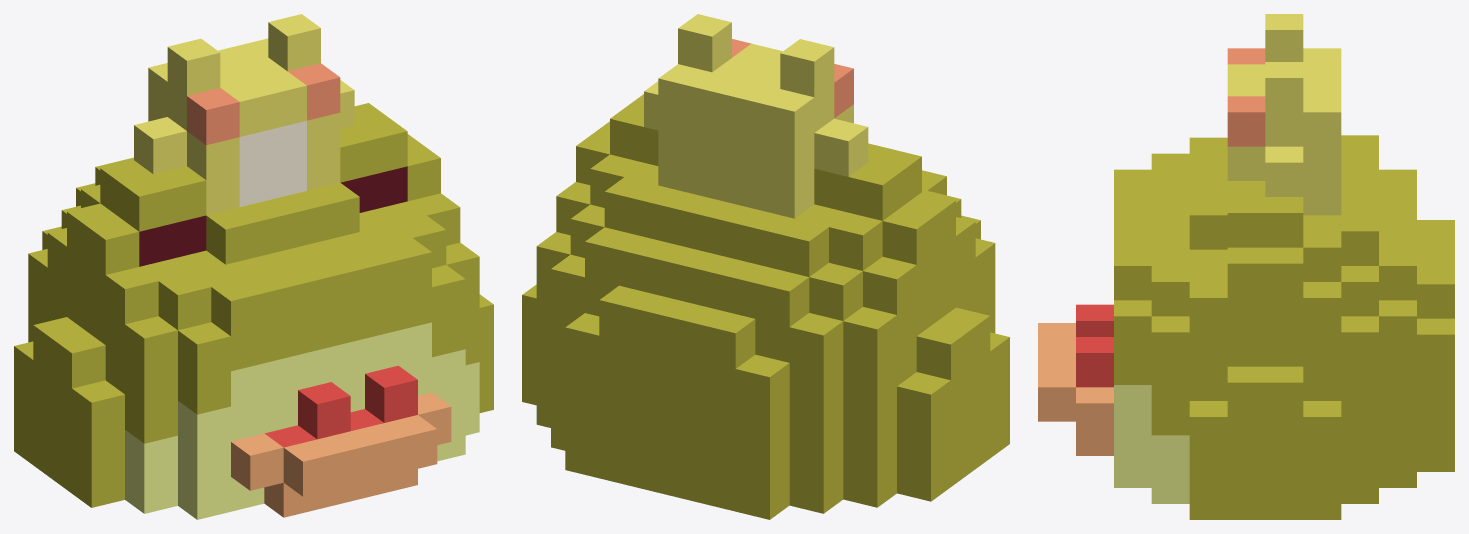
File: Basica.fbx
3 renders of one model, left to right at view 1: azimuth 30°, elevation 25°; view 2: azimuth 150°, elevation 25°; view 3: azimuth 270°, elevation 25°, orthographic. The views are drawn at different scales.
Visible parts, largest first — view 1: basica; view 2: basica; view 3: basica.
Boxes of the visible parts, x1,y1,x2,y2 form: basica: (14,14,493,519); basica: (522,14,1009,519); basica: (1038,14,1454,519).
Bounding box in the file's own units: 120 × 110 × 110.
